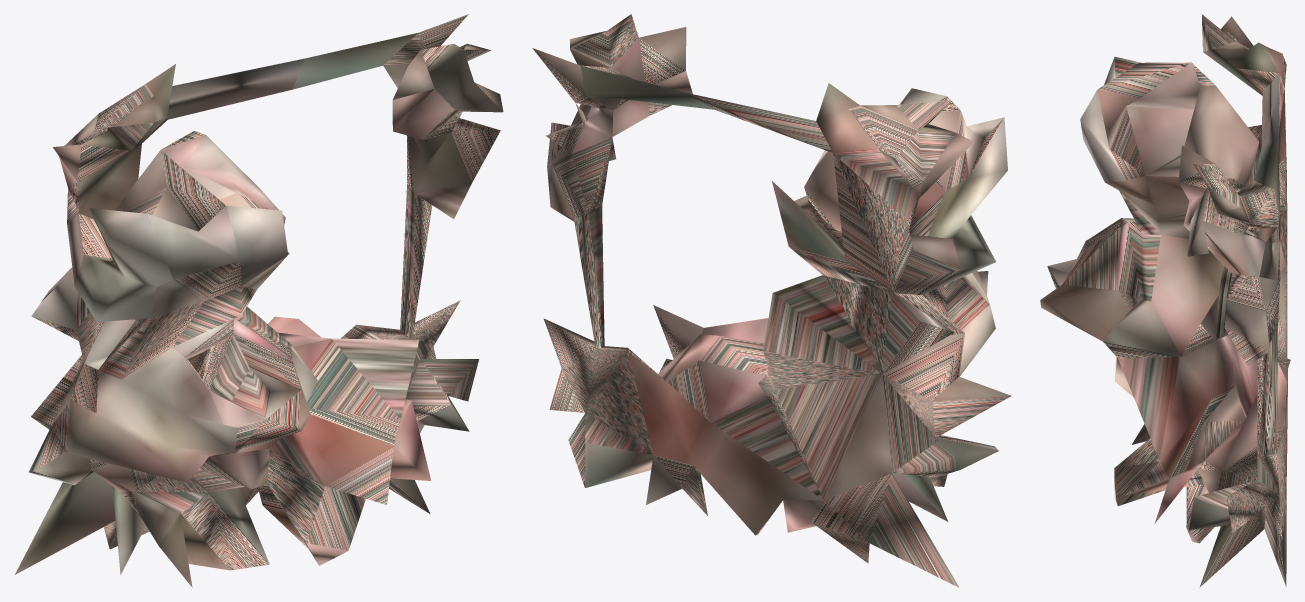
The picture shows the model from 3 angles, left to right: view 1: azimuth 30°, elevation 25°; view 2: azimuth 150°, elevation 25°; view 3: azimuth 270°, elevation 25°; orthographic projection. The views are drawn at different scales.
Parts seen in each view (by area): view 1: Rose-Frame-9-07; view 2: Rose-Frame-9-07; view 3: Rose-Frame-9-07.
Part boxes in pixels (x1,y1,x2,y2): Rose-Frame-9-07: [15, 14, 503, 587]; Rose-Frame-9-07: [532, 14, 1011, 587]; Rose-Frame-9-07: [1040, 14, 1290, 587].
Size of the model in its own units: 0.2338 by 0.2314 by 0.1166.
1 material, 1 textured.
